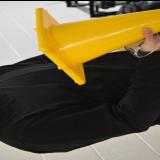cone: (34, 7, 160, 85)
